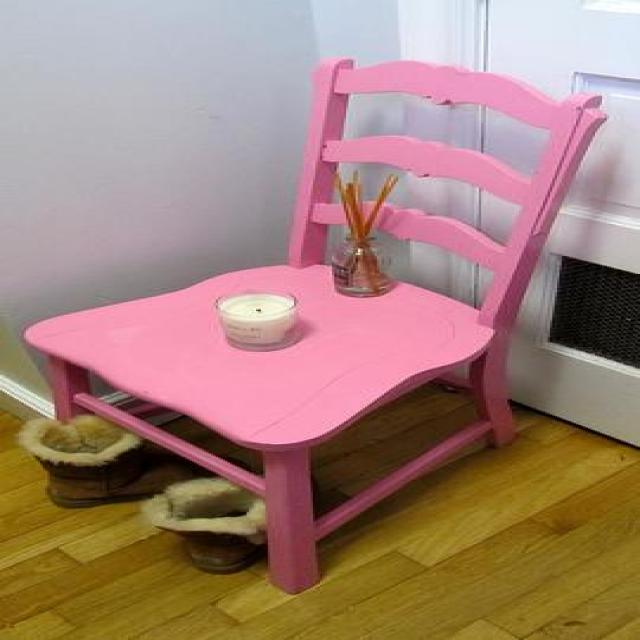chair: (19, 55, 607, 594)
